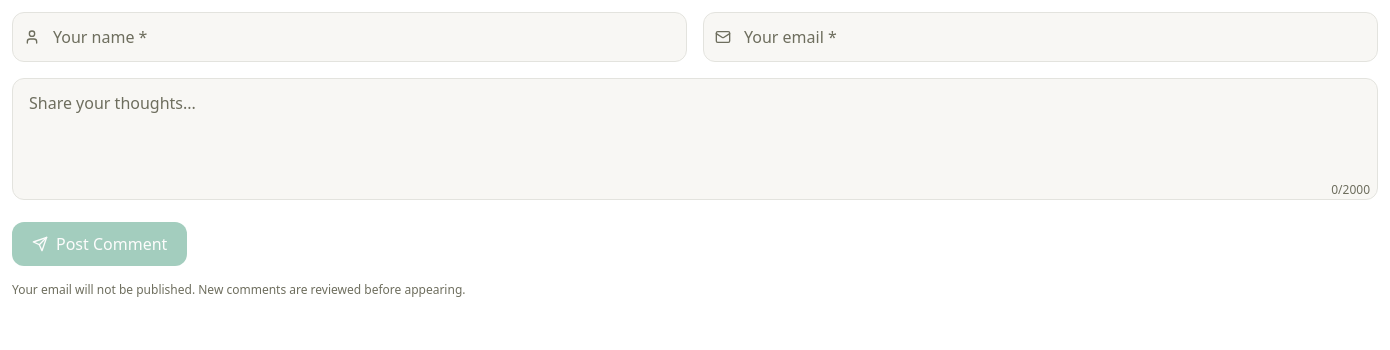
Test: CommentForm › Guest mode (not logged in) › shows error when name and email are missing
The image size is (1390, 350).
# Type comment content
Type "Test comment" into the text box with placeholder "Share your thoughts...".
click(695, 139); type("Test comment")  # box [12,78,1378,200]
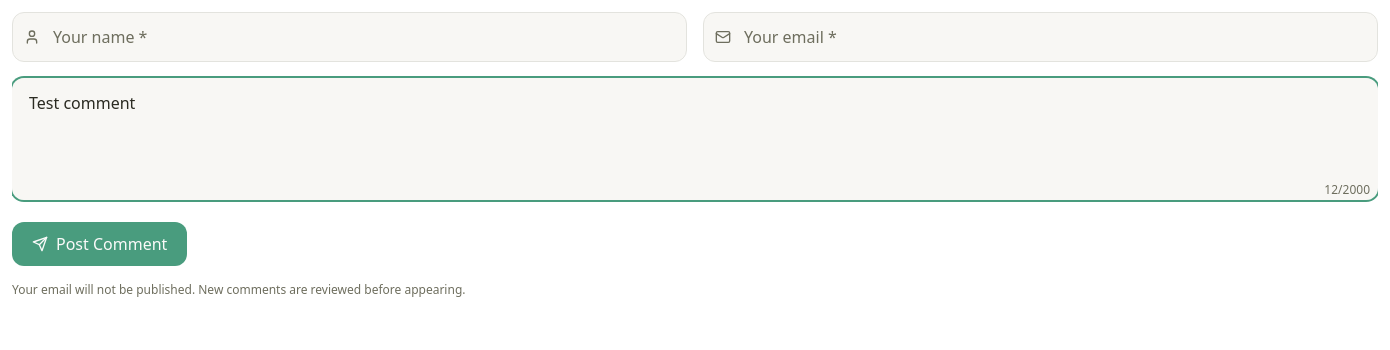
# Submit form
Click the button "Post Comment".
click(100, 244)  # box [12,222,187,266]
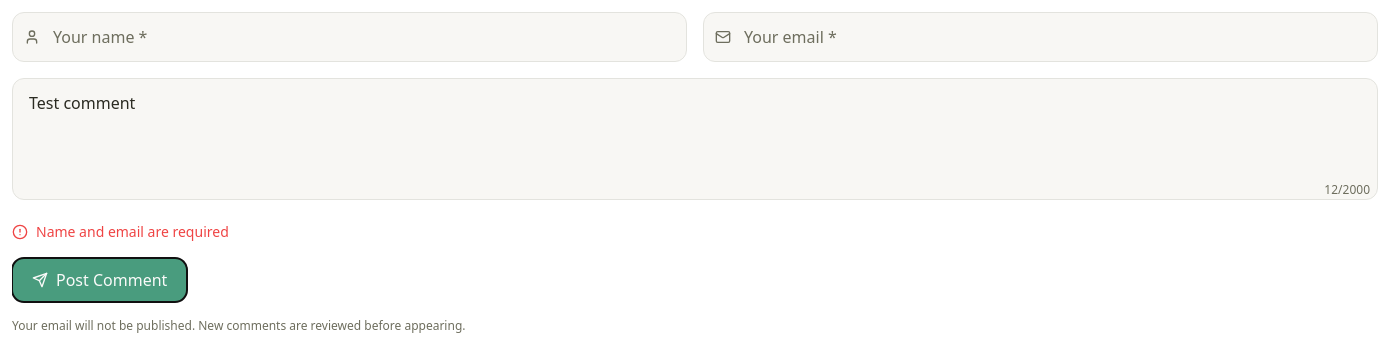
Expected: the text "Name and email are required" is shown, [12,222,229,241]
